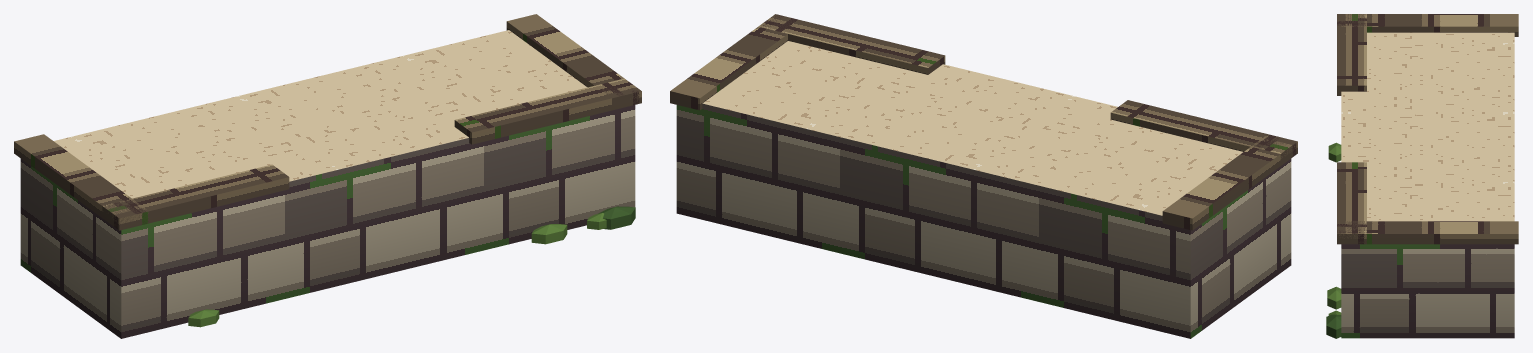
Rendered from scene_plat_g8.glb.
3 renders of one model, left to right at view 1: azimuth 30°, elevation 25°; view 2: azimuth 150°, elevation 25°; view 3: azimuth 270°, elevation 25°, orthographic. The views are drawn at different scales.
Parts seen in each view (by area): view 1: scene_plat_g8; view 2: scene_plat_g8; view 3: scene_plat_g8.
Boxes of the visible parts, bbox=[...] form: scene_plat_g8: bbox=[14, 14, 641, 338]; scene_plat_g8: bbox=[670, 14, 1297, 338]; scene_plat_g8: bbox=[1326, 14, 1518, 338].
Bounding box in the file's own units: 6.3 × 1.5 × 2.33.
Materials: 3 (2 with a texture image).
